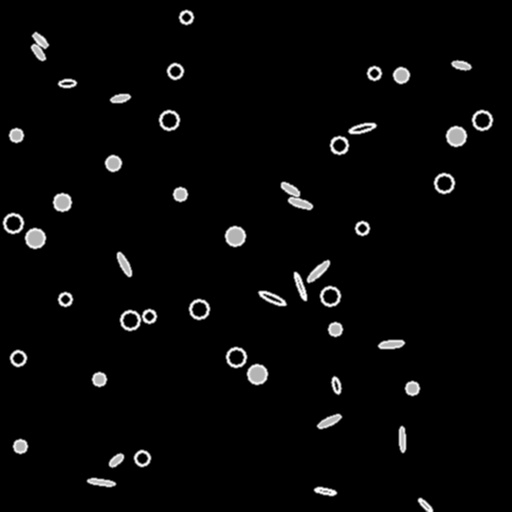pseudomonas: (305, 259, 331, 283), (258, 289, 286, 307), (115, 252, 133, 276), (293, 272, 307, 300), (317, 413, 341, 429), (287, 196, 313, 210), (348, 122, 376, 134), (280, 181, 300, 197), (30, 43, 46, 61), (107, 452, 125, 468), (378, 339, 404, 349), (32, 32, 48, 48), (87, 478, 115, 486), (330, 376, 342, 394), (110, 93, 130, 103), (418, 498, 432, 512), (452, 60, 470, 70), (314, 487, 336, 495), (399, 426, 405, 452), (58, 79, 76, 87)
synechocystis: (4, 214, 22, 232), (121, 311, 139, 329), (447, 127, 465, 145), (248, 365, 266, 383), (435, 174, 453, 192), (227, 348, 245, 366), (226, 227, 244, 245), (473, 111, 491, 129), (190, 300, 208, 318), (26, 229, 44, 247), (160, 111, 178, 129), (321, 287, 339, 305), (331, 137, 347, 153), (54, 194, 70, 210), (106, 156, 120, 170), (11, 351, 25, 365), (135, 451, 149, 465), (168, 64, 182, 78), (394, 68, 408, 82), (368, 67, 380, 79), (14, 440, 26, 452), (356, 222, 368, 234), (10, 129, 22, 141), (180, 11, 192, 23), (406, 382, 418, 394), (59, 293, 71, 305), (93, 373, 105, 385), (174, 188, 186, 200), (143, 310, 155, 322), (329, 323, 341, 335)
